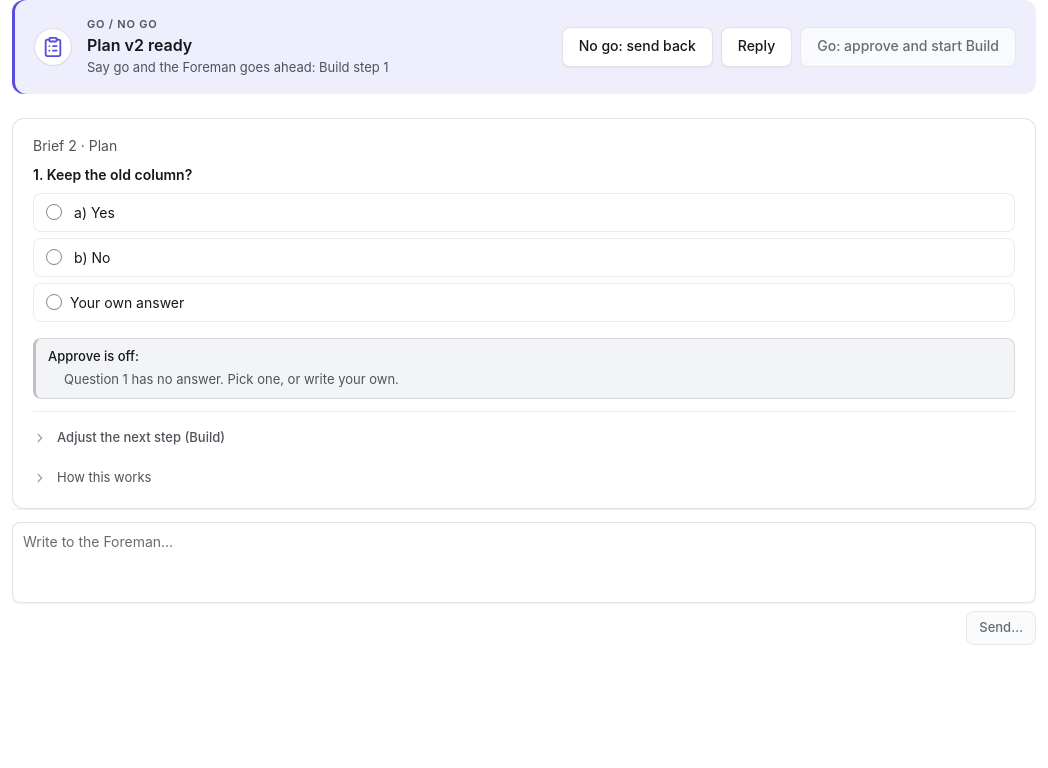
the go / no go bar › Reply works with a question unanswered
This screenshot has width=1048, height=768.
Expected: the button "Go: approve and start Build" is disabled, [800,27,1016,67]
Click the button "Reply" at (756, 47), box [721,27,792,67]
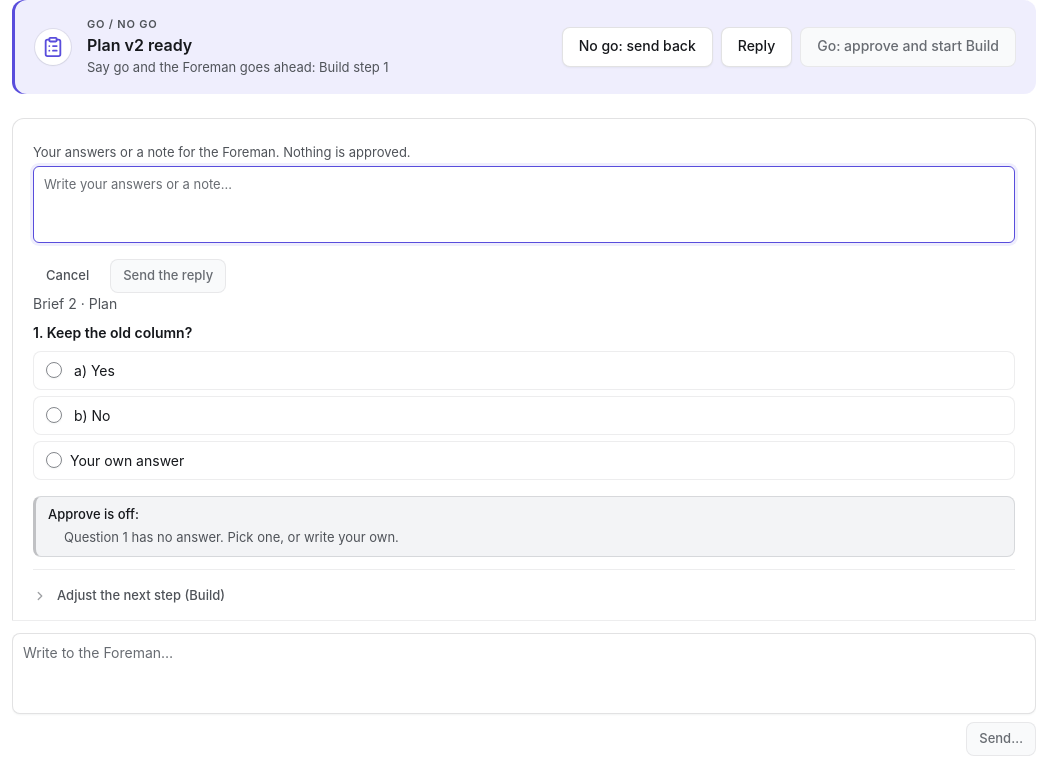
Type "What does the old column feed?" into the text box labelled "Your answers or a note for the Foreman. Nothing is approved." at (524, 204), box [33,166,1015,243]
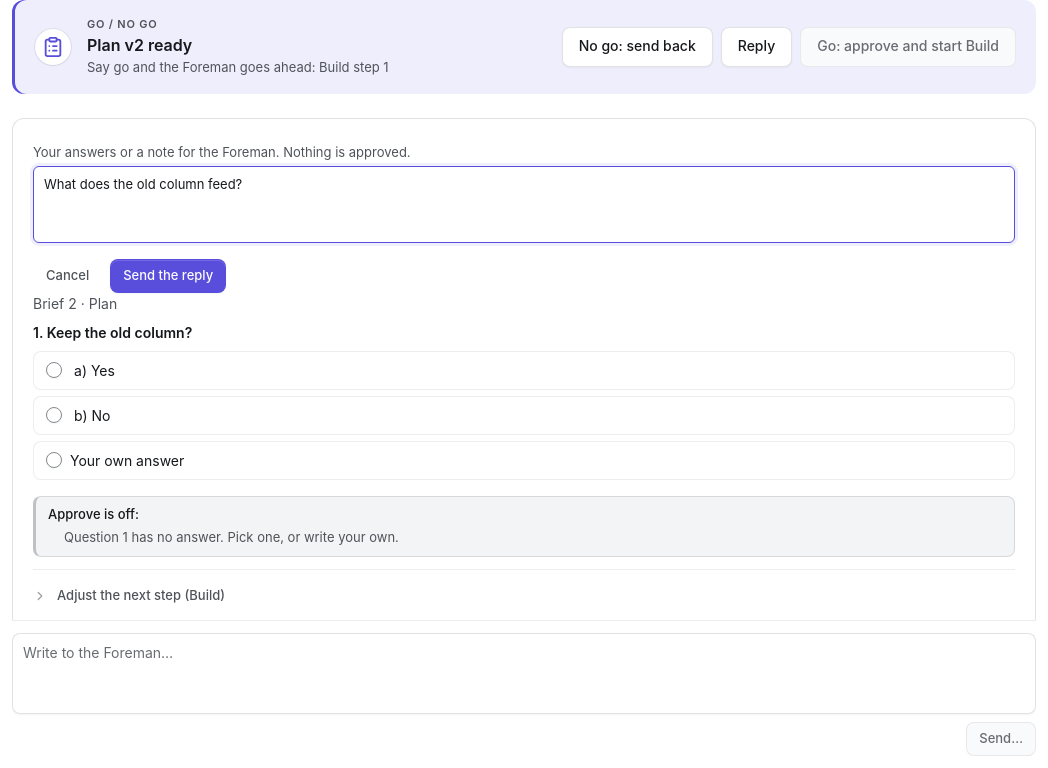
Click the button "Send the reply" at (168, 276), box [110,259,226,293]
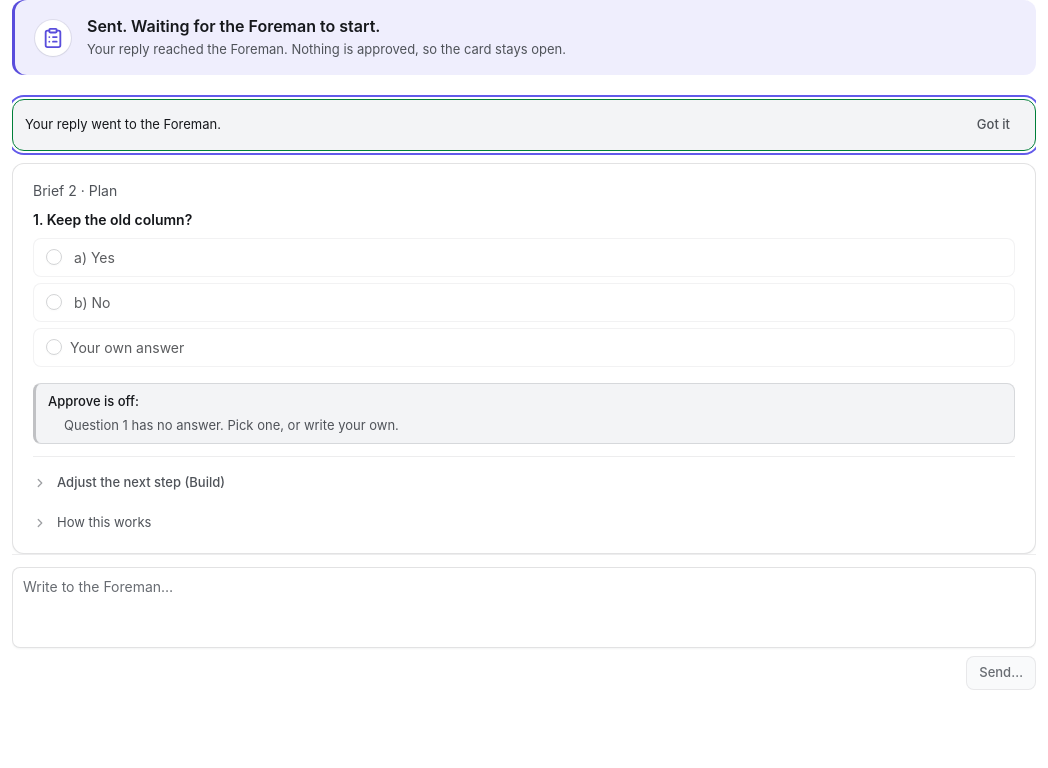
Expected: the text "Sent. Waiting for the Foreman to start." is shown, [87,16,380,36]
Expected: the text "Your answers or a note" is gone
Expected: the button "Send the reply" is gone
